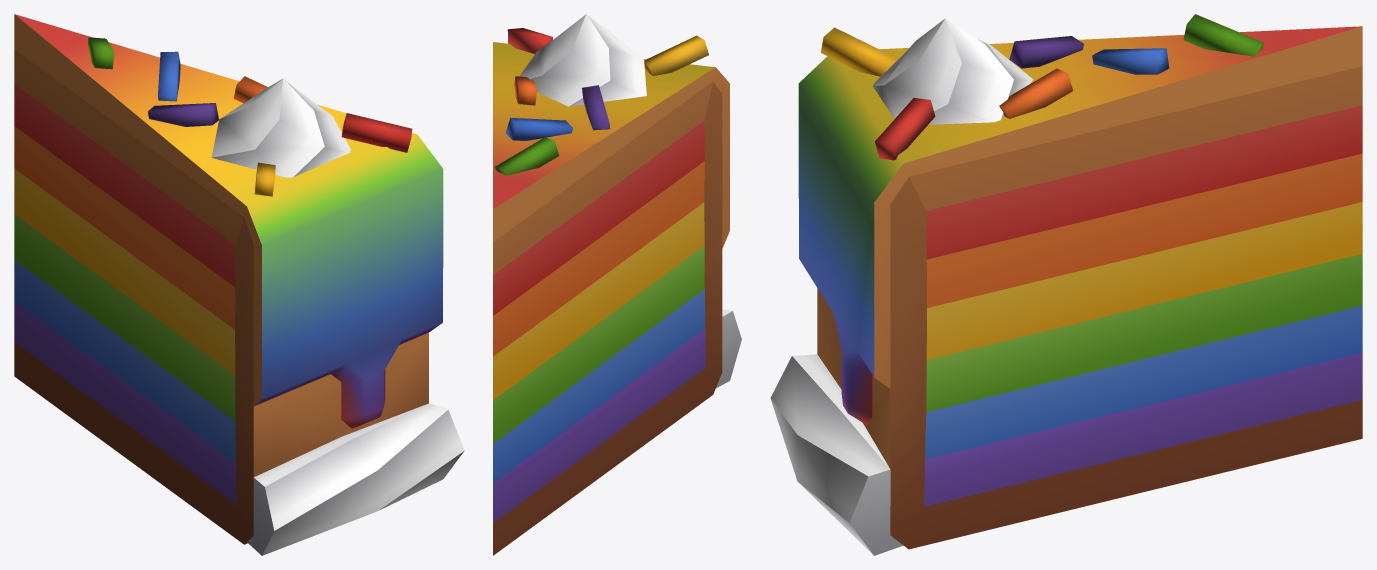
The model's file is m_RainbowCake01_Slice03.fbx.
3 renders of one model, left to right at view 1: azimuth 30°, elevation 25°; view 2: azimuth 150°, elevation 25°; view 3: azimuth 270°, elevation 25°, orthographic. The views are drawn at different scales.
Parts seen in each view (by area): view 1: m_RainbowCake01_Slice03; view 2: m_RainbowCake01_Slice03; view 3: m_RainbowCake01_Slice03.
Boxes of the visible parts, left/top/right/bottom form: m_RainbowCake01_Slice03: left=14, top=14, right=464, bottom=555; m_RainbowCake01_Slice03: left=493, top=14, right=741, bottom=555; m_RainbowCake01_Slice03: left=770, top=14, right=1362, bottom=555.
Bounding box in the file's own units: 7.6 × 13.31 × 15.21.
